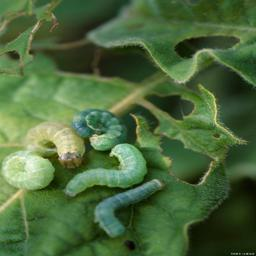Tobacco_budworm: (93, 178, 167, 243), (63, 142, 148, 197), (24, 120, 85, 171), (73, 108, 129, 153), (1, 151, 55, 192)
